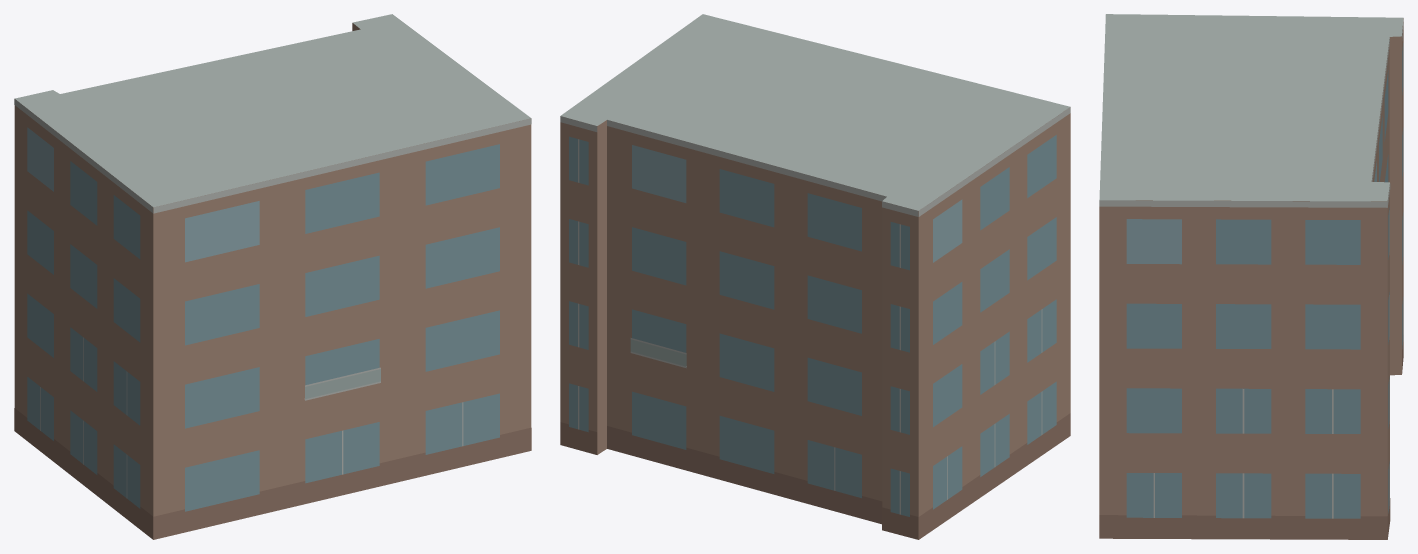
Rendered from survey-upis-32756770.glb.
3 renders of one model, left to right at view 1: azimuth 30°, elevation 25°; view 2: azimuth 150°, elevation 25°; view 3: azimuth 270°, elevation 25°, orthographic. The views are drawn at different scales.
Parts seen in each view (by area): view 1: survey-upis-32756770.tmp; view 2: survey-upis-32756770.tmp; view 3: survey-upis-32756770.tmp.
Boxes of the visible parts, bbox=[...] form: survey-upis-32756770.tmp: bbox=[14, 14, 531, 539]; survey-upis-32756770.tmp: bbox=[560, 14, 1070, 539]; survey-upis-32756770.tmp: bbox=[1099, 14, 1403, 539].
Size of the model in its own units: 15.4 by 12.96 by 10.56.
